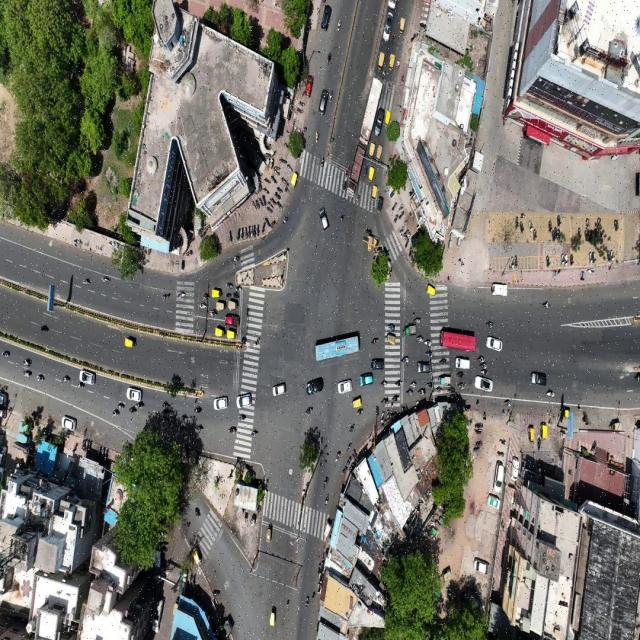3W: (266, 601, 280, 630), (375, 46, 386, 73), (192, 542, 202, 568), (122, 334, 138, 350), (402, 322, 418, 338), (525, 424, 536, 447), (426, 282, 438, 302), (375, 144, 385, 166), (292, 170, 302, 190), (265, 524, 274, 546), (384, 332, 396, 348), (348, 395, 364, 407), (370, 183, 378, 206), (376, 195, 384, 218), (398, 15, 406, 38), (438, 375, 452, 387), (389, 52, 396, 76), (214, 327, 225, 341), (541, 422, 549, 441), (367, 143, 375, 162), (210, 288, 222, 300), (226, 328, 237, 341), (215, 300, 226, 312), (386, 110, 392, 131), (368, 167, 375, 184)
Bus: (312, 333, 362, 362)
Cars: (315, 203, 332, 238), (491, 459, 506, 497), (488, 280, 512, 302), (316, 3, 332, 35), (471, 556, 493, 578), (305, 376, 327, 397), (526, 368, 549, 388), (60, 412, 79, 435), (474, 376, 496, 395), (317, 85, 329, 119), (302, 71, 316, 98), (234, 394, 256, 411), (78, 366, 96, 386), (124, 384, 144, 402), (486, 334, 504, 353), (271, 380, 288, 400), (380, 12, 392, 40), (335, 378, 352, 396), (222, 312, 241, 328), (455, 355, 472, 372), (374, 108, 383, 139), (369, 355, 385, 372), (212, 396, 231, 410), (415, 361, 433, 373), (358, 373, 374, 386)
M2W: (192, 502, 204, 522), (542, 297, 554, 316), (252, 332, 262, 352), (304, 404, 316, 420), (333, 446, 342, 466), (370, 331, 380, 349), (312, 126, 321, 146), (470, 418, 486, 429), (321, 474, 330, 493), (334, 17, 343, 36), (482, 318, 496, 330), (323, 492, 332, 510), (1, 345, 11, 361), (326, 50, 334, 70), (236, 412, 248, 424), (594, 211, 603, 227), (399, 353, 410, 366), (378, 376, 389, 389), (36, 370, 46, 384), (112, 408, 122, 422), (250, 427, 260, 441), (438, 355, 448, 369), (268, 196, 278, 210), (128, 404, 137, 419), (503, 395, 512, 410), (353, 192, 362, 207), (304, 592, 311, 611), (21, 370, 33, 381), (39, 324, 50, 336), (62, 372, 72, 385), (387, 319, 397, 332), (328, 90, 336, 106), (606, 248, 615, 262), (398, 74, 407, 88), (100, 274, 111, 285), (267, 174, 278, 185), (22, 356, 32, 368), (228, 424, 238, 436), (243, 222, 249, 242), (282, 139, 292, 151), (612, 216, 619, 233), (342, 176, 349, 193), (337, 212, 346, 225), (390, 212, 399, 225), (348, 420, 355, 436), (519, 219, 526, 235), (319, 156, 326, 172), (455, 368, 466, 378), (225, 279, 235, 290), (83, 277, 92, 289), (544, 390, 556, 399), (500, 435, 509, 447), (472, 427, 484, 436), (392, 392, 401, 404), (380, 395, 389, 407), (545, 252, 551, 270), (198, 300, 207, 312), (342, 163, 351, 175), (161, 290, 169, 303), (283, 214, 291, 227), (509, 255, 515, 272), (557, 211, 563, 228), (560, 253, 566, 270), (587, 250, 593, 267), (577, 224, 583, 241), (252, 223, 258, 240), (537, 433, 542, 453), (425, 350, 435, 360), (278, 154, 288, 164), (137, 401, 146, 412), (354, 409, 365, 418), (232, 253, 241, 264), (391, 198, 398, 212), (395, 376, 403, 388), (379, 409, 385, 425), (227, 228, 233, 244), (236, 227, 242, 243), (281, 176, 288, 189), (399, 200, 406, 213), (76, 383, 86, 392), (414, 315, 424, 324), (415, 335, 424, 345), (423, 337, 432, 347), (458, 381, 467, 391), (202, 292, 212, 301), (209, 308, 218, 318), (236, 282, 245, 292), (295, 106, 305, 115), (363, 163, 368, 181), (386, 80, 392, 95), (345, 442, 353, 453), (514, 213, 519, 230), (118, 400, 125, 412), (250, 201, 257, 213), (403, 236, 410, 248), (417, 388, 426, 397), (426, 379, 435, 388), (284, 128, 293, 137), (386, 408, 391, 424), (435, 384, 443, 394), (515, 252, 519, 272), (569, 252, 574, 268), (234, 290, 242, 300), (298, 98, 306, 108), (478, 369, 491, 375), (546, 218, 552, 231), (495, 450, 506, 457), (406, 387, 413, 398), (533, 227, 538, 242), (479, 362, 488, 370), (529, 217, 533, 235), (448, 386, 455, 396), (262, 192, 267, 206), (263, 216, 270, 226), (411, 378, 417, 389), (396, 59, 402, 70), (381, 69, 386, 82), (178, 291, 186, 299), (392, 28, 396, 44), (399, 224, 405, 234), (225, 291, 232, 299), (478, 355, 484, 363)
Truck: (354, 74, 384, 144), (346, 144, 366, 203)
